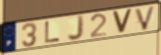2: (89, 12, 109, 38)
3: (21, 21, 38, 48)
J: (66, 14, 85, 42)
L: (44, 20, 62, 44)
V: (134, 5, 157, 32), (111, 8, 134, 35)
